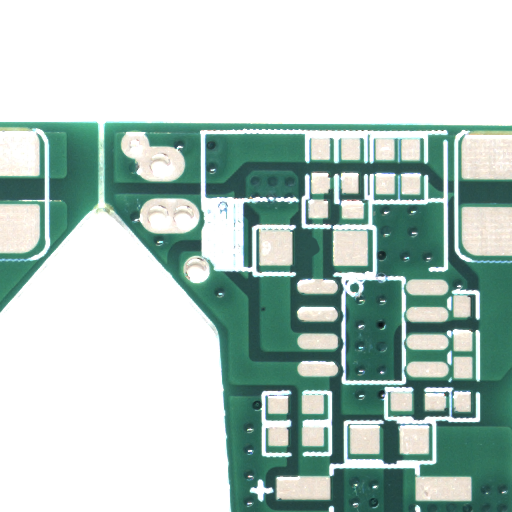Mouse_bite: (314, 248, 324, 269)
